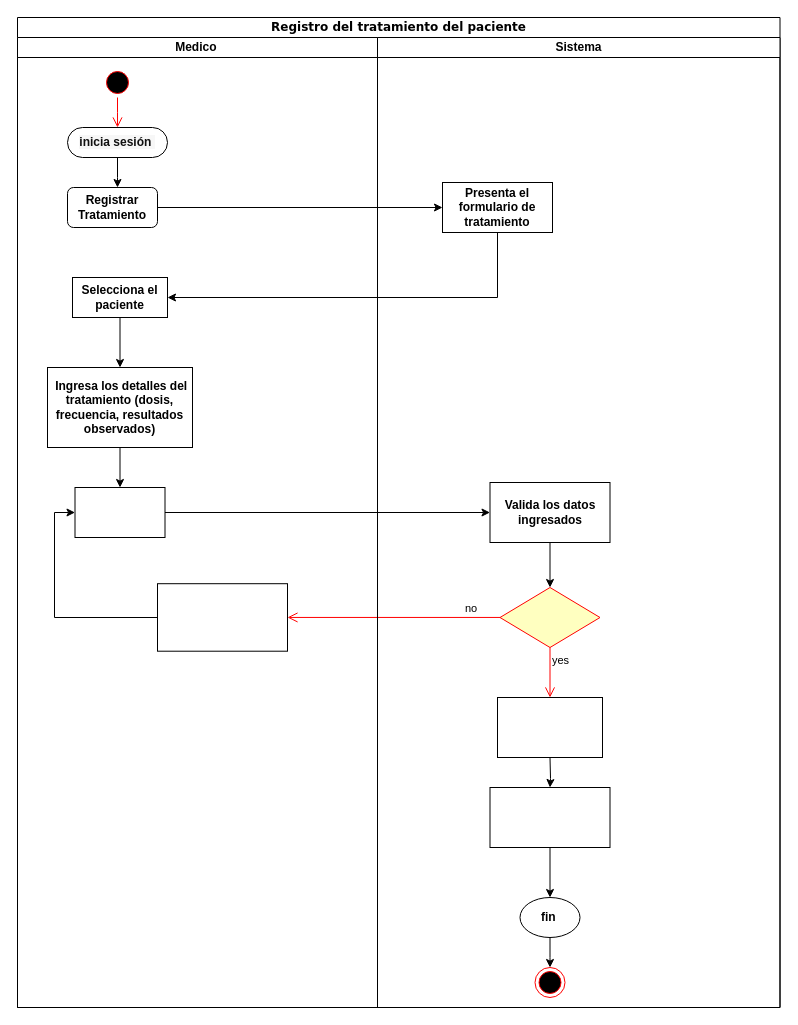
This 798x1025 diagram has some shape labels left out. Here are the shapes that lost their labels. From the top down, the centre of each, then its label:
At pixel 119 512: "Envia Formulario".
At pixel 222 617: "Muestra mensaje de error y solicita ingresar el Tratamiento nuevamente".
At pixel 549 617: "¿Datos completos?".
At pixel 549 727: "Guarda los detalles del tratamiento".
At pixel 549 817: "Guarda Cambios".
